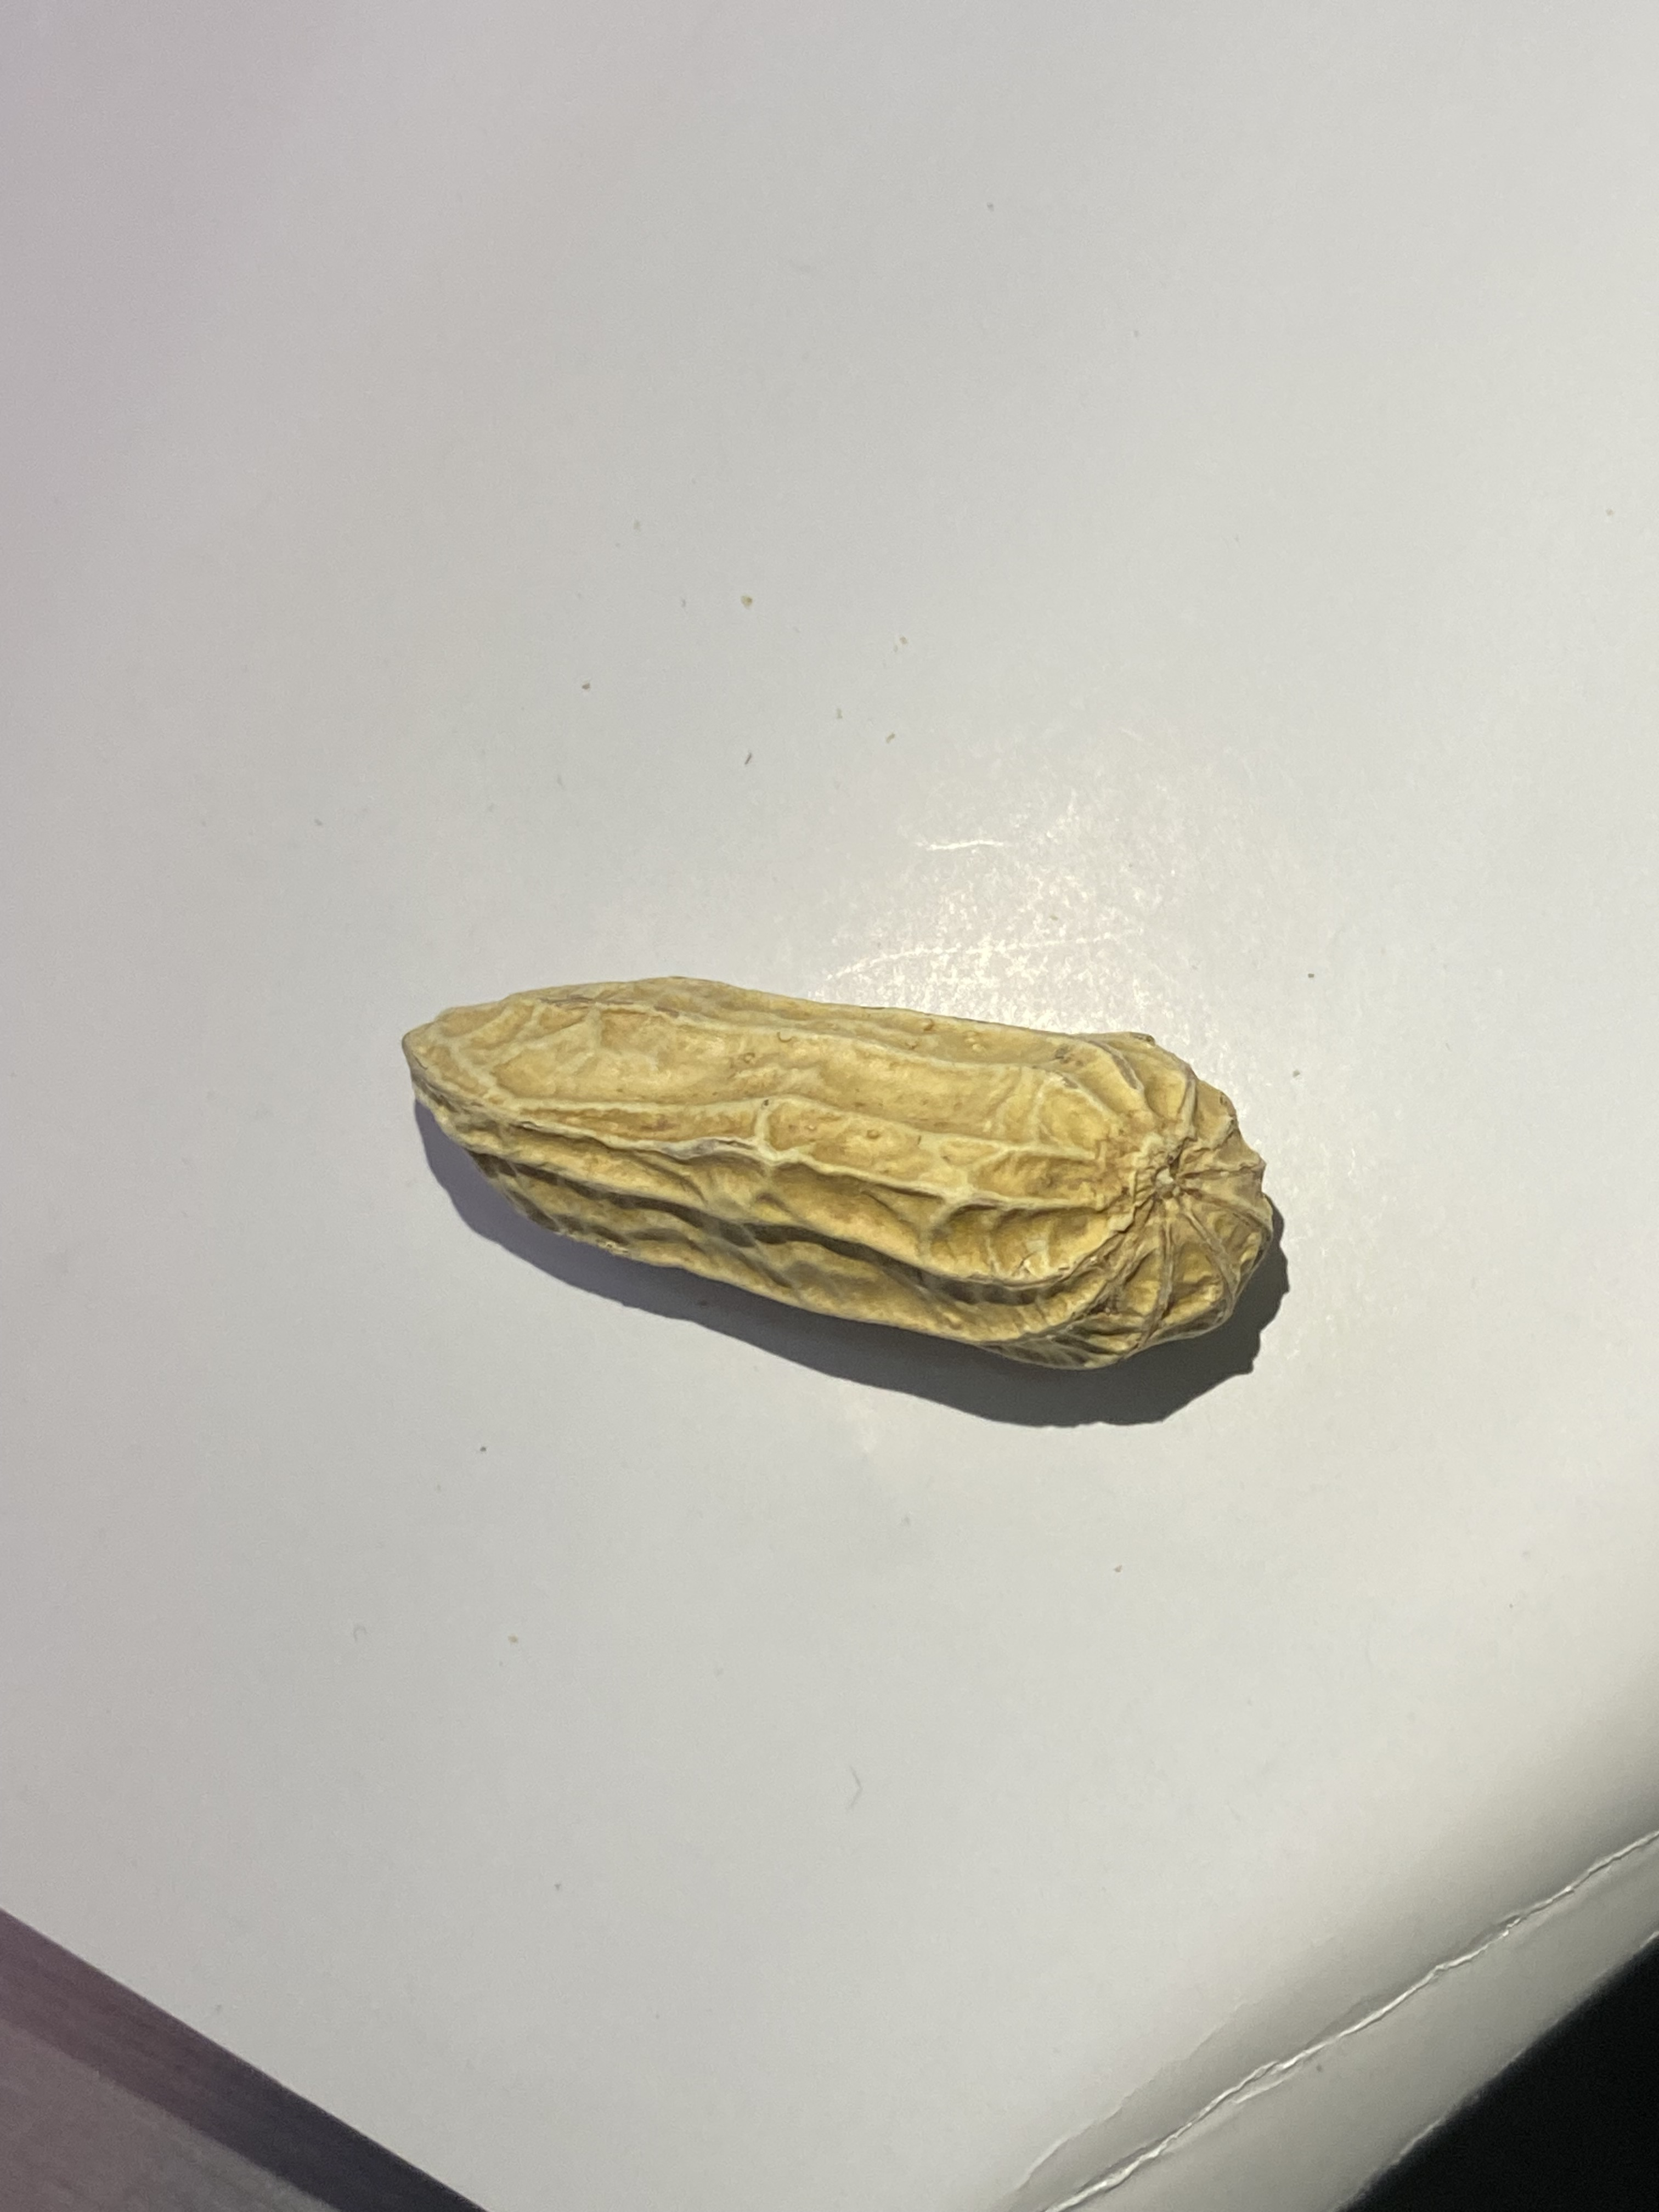kacang3: (361, 951, 1293, 1393)
